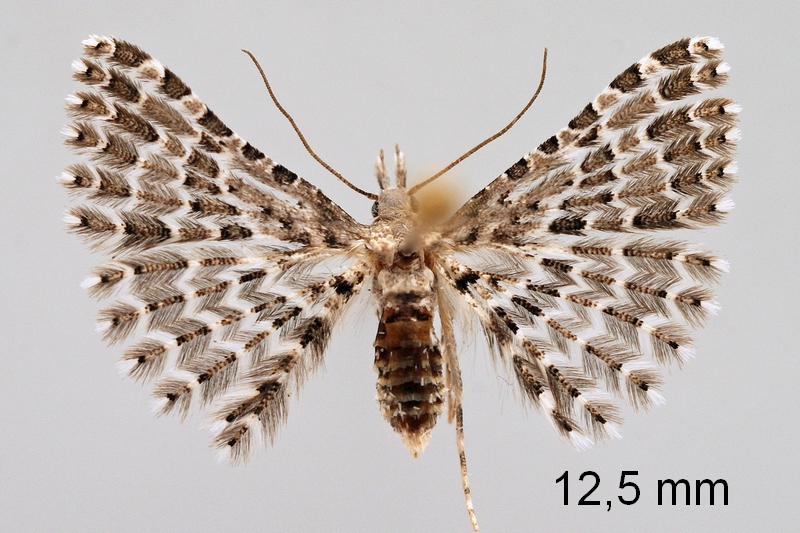Alucitidae: (63, 20, 744, 525)
moth: (61, 18, 742, 523)
